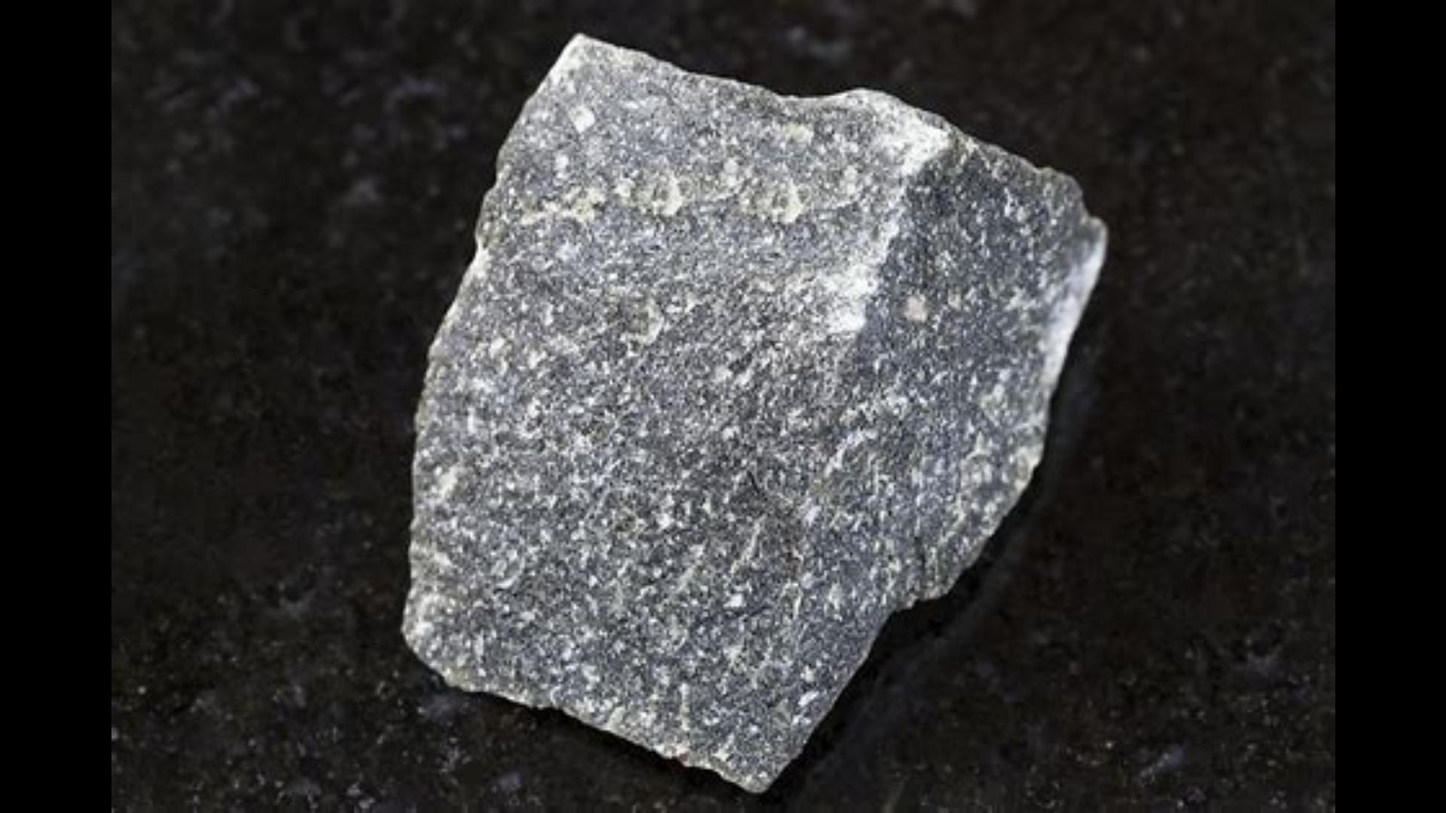rock: (402, 36, 1102, 790)
